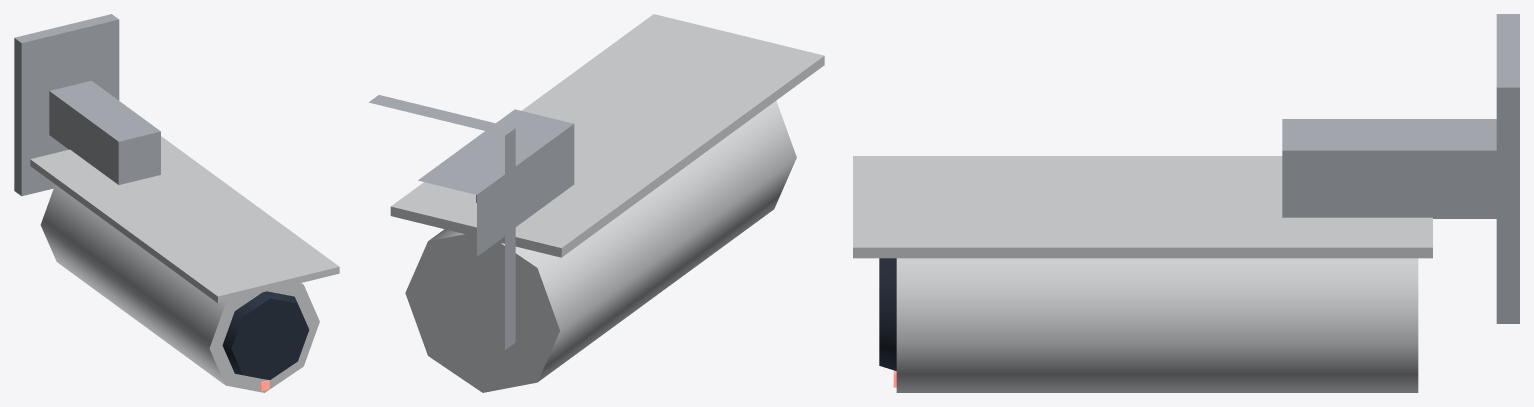
Rendered from fac_camera.glb.
3 views of the same model, side by side, from view 1: azimuth 30°, elevation 25°; view 2: azimuth 150°, elevation 25°; view 3: azimuth 270°, elevation 25° (orthographic). The views are drawn at different scales.
Visible parts, largest first — view 1: Body; view 2: Body; view 3: Body.
Part boxes in pixels (x1,y1,x2,y2): Body: (14,14,339,392); Body: (368,14,824,392); Body: (853,14,1519,392).
Bounding box in the file's own units: 0.075 × 0.129 × 0.23.
